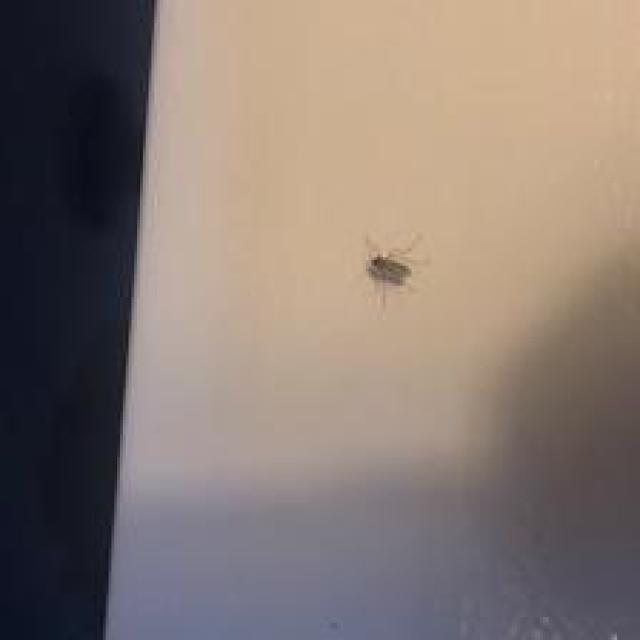Culex: (362, 232, 422, 308)
